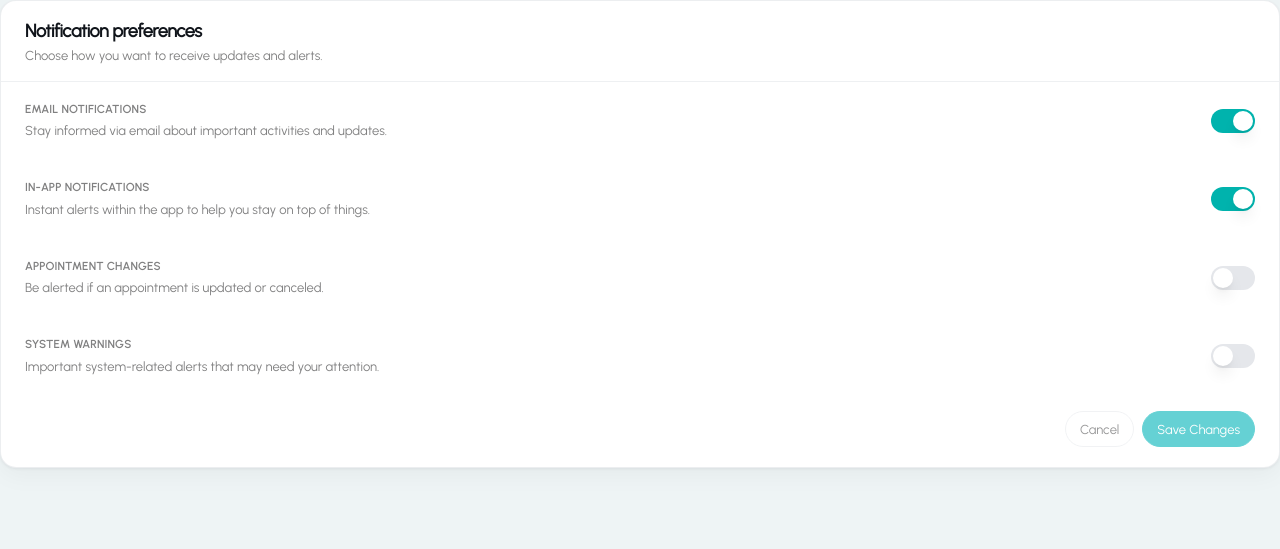
Scenario: NotificationPreferencesTab › should show error toast when save fails
expect the text "Email notifications" is shown: met, box [25,103,146,116]
Click the switch in the row of "Appointment changes" at (1233, 278), box [1211,266,1255,290]
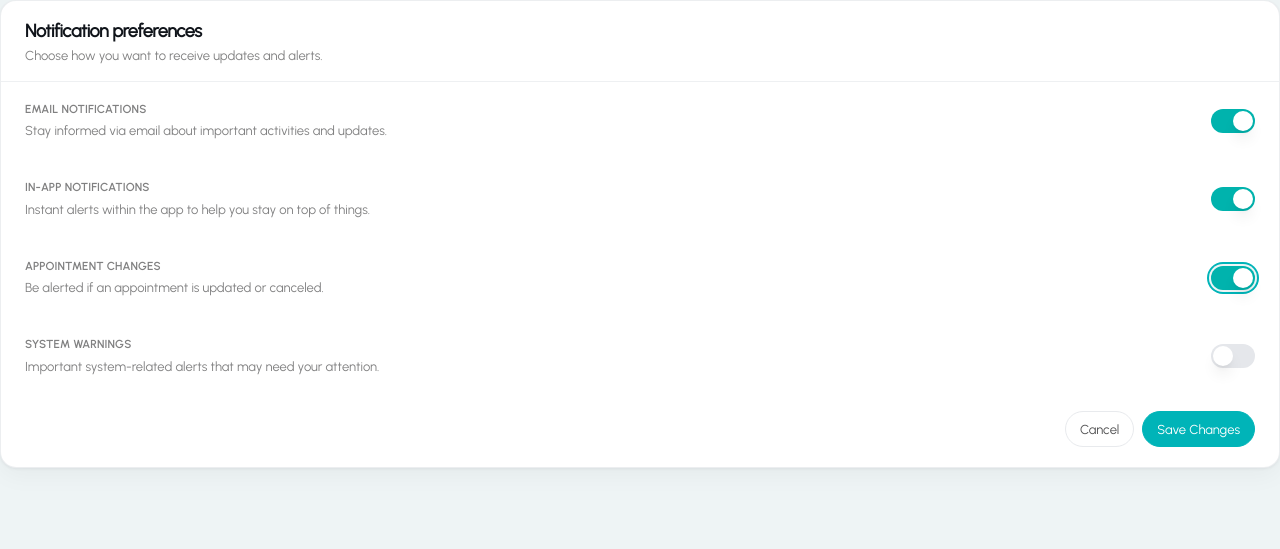
Click the button "Save Changes" at (1199, 429), box [1142,411,1255,447]
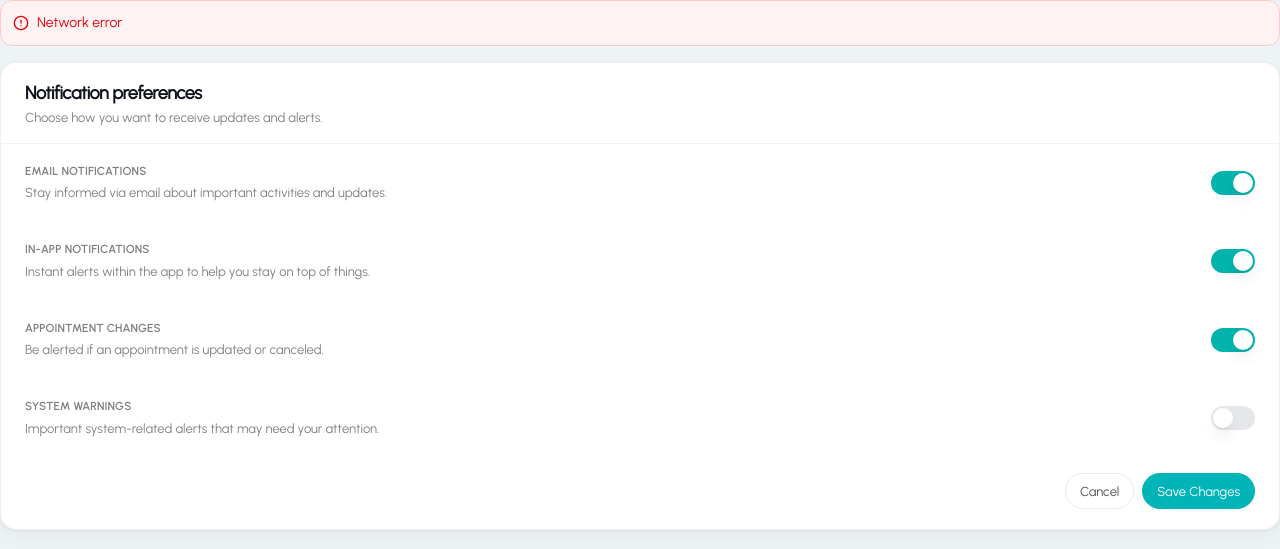
expect the text "Network error" is shown: met, box [37,13,122,33]
